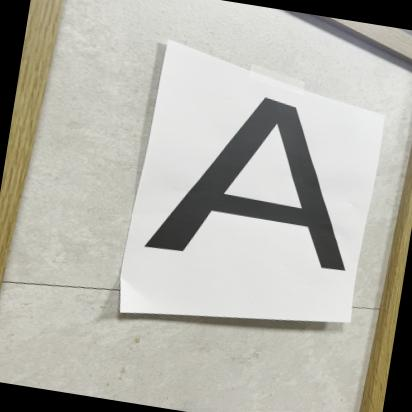seat: (141, 68, 381, 301)
